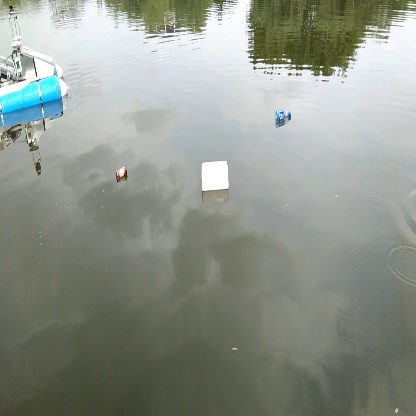bottle: (272, 105, 294, 126), (114, 164, 131, 182)
plastic-garbage: (194, 158, 235, 194)
